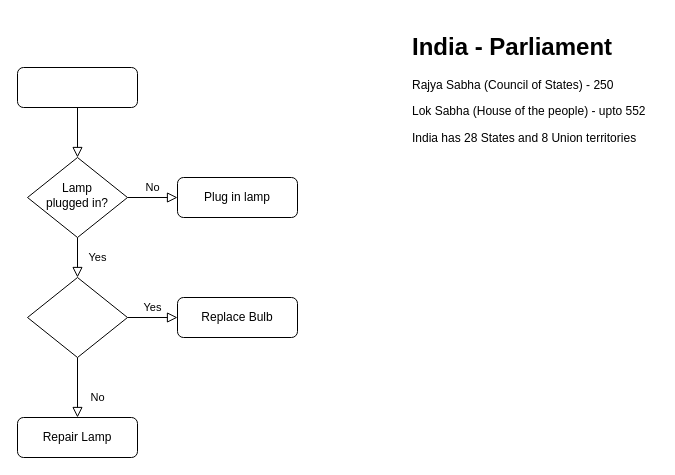
The diagram is 675 pixels wide and 475 high, and some of its shapes have lost their labels. Each missing label, with the centre of its shape:
Bulb burned out?: point (77, 317)
List Elections: point (77, 87)
